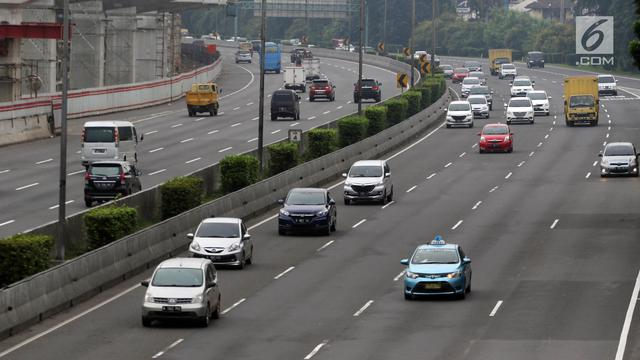car: (144, 256, 221, 328), (405, 240, 471, 300), (191, 213, 256, 270), (82, 160, 142, 209), (278, 187, 336, 235), (84, 119, 140, 166), (345, 158, 395, 205), (563, 76, 601, 132), (598, 141, 639, 180), (185, 84, 221, 119), (269, 90, 301, 122), (481, 122, 511, 153), (507, 97, 536, 124), (447, 100, 474, 128), (352, 79, 381, 105), (525, 89, 551, 115), (488, 49, 512, 77), (283, 66, 307, 93), (261, 45, 281, 75), (309, 80, 336, 102), (510, 79, 535, 100), (301, 58, 321, 82), (598, 74, 619, 95), (462, 76, 481, 97), (526, 50, 546, 69), (469, 96, 487, 117), (454, 66, 470, 83), (465, 61, 483, 76), (500, 64, 516, 79), (440, 63, 454, 79), (236, 51, 251, 65)
